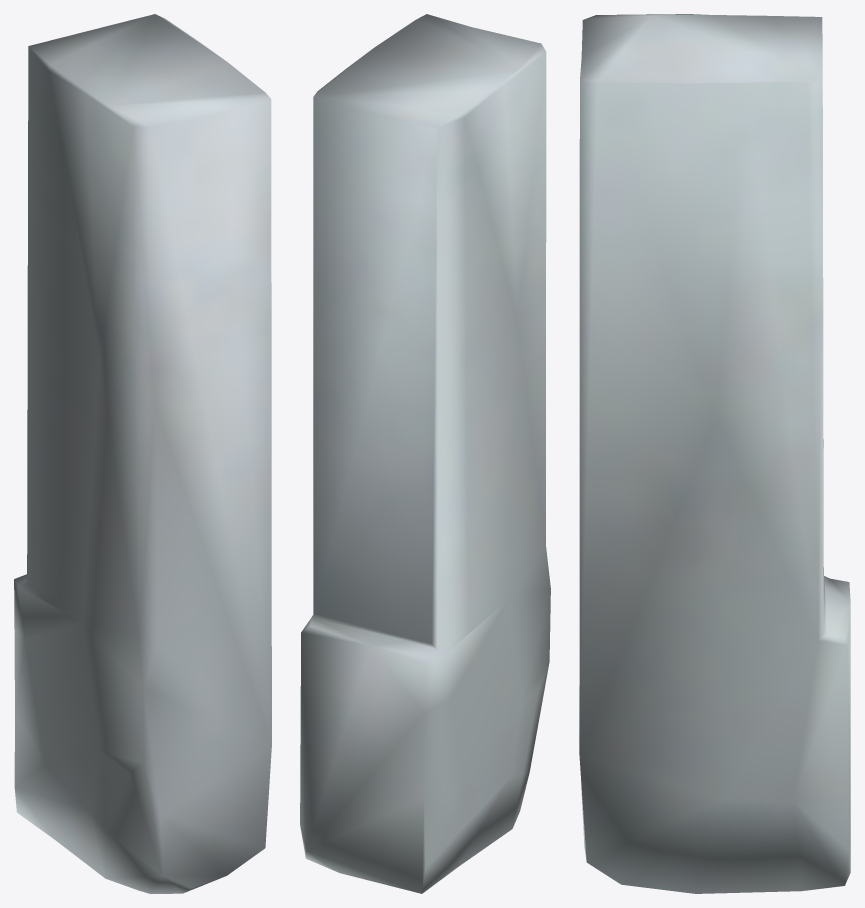
Rendered from P_CubicCliffPiece06.obj.
3 views of the same model, side by side, from view 1: azimuth 30°, elevation 25°; view 2: azimuth 150°, elevation 25°; view 3: azimuth 270°, elevation 25° (orthographic). The views are drawn at different scales.
Size of the model in its own units: 3.86 by 20.02 by 6.07.
